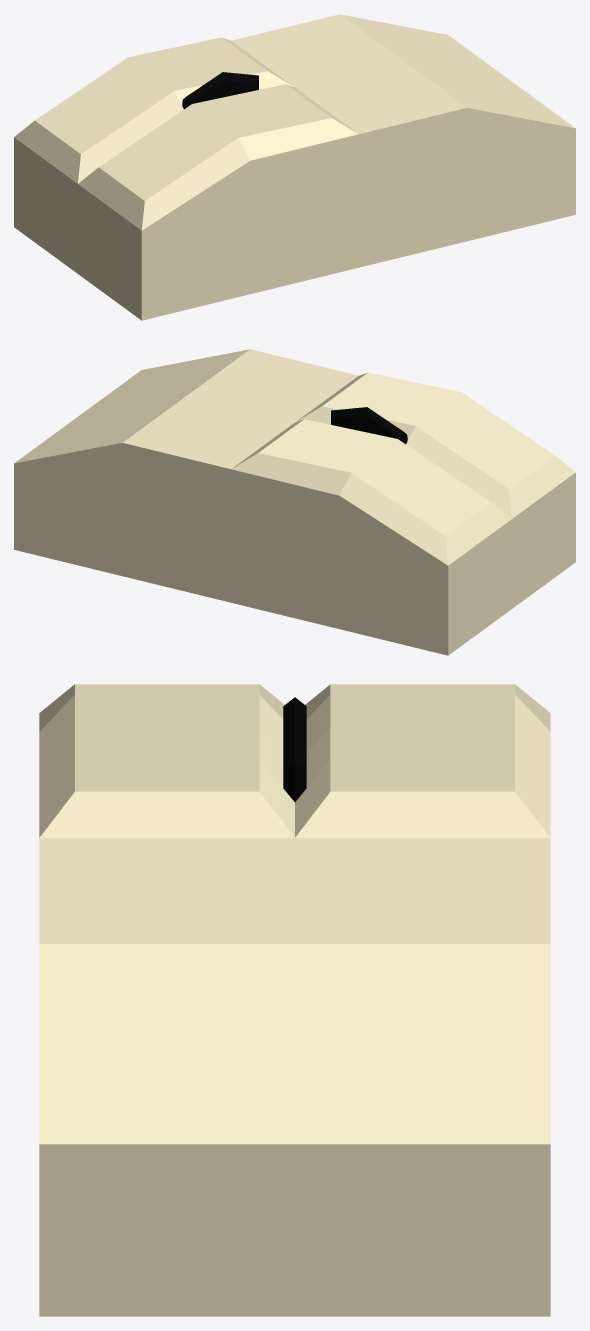
File: Mouse.fbx
3 views of the same model, one above another, from view 1: azimuth 30°, elevation 25°; view 2: azimuth 150°, elevation 25°; view 3: azimuth 270°, elevation 25° (orthographic). The views are drawn at different scales.
Parts seen in each view (by area): view 1: Cube.034; view 2: Cube.034; view 3: Cube.034.
Part boxes in pixels (bbox=[...]): Cube.034: bbox=[14, 14, 575, 320]; Cube.034: bbox=[14, 349, 575, 655]; Cube.034: bbox=[39, 684, 550, 1316].
Bounding box in the file's own units: 46.58 × 17.08 × 23.74.
